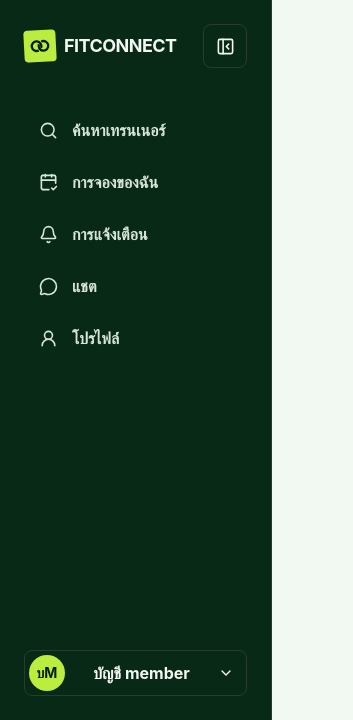
SiteHeader › keeps the authenticated account control and role workspace available
Click the button with aria-label "เปิดเมนูบัญชีของ บัญชี member" at (136, 673), box 24,650 -> 247,696
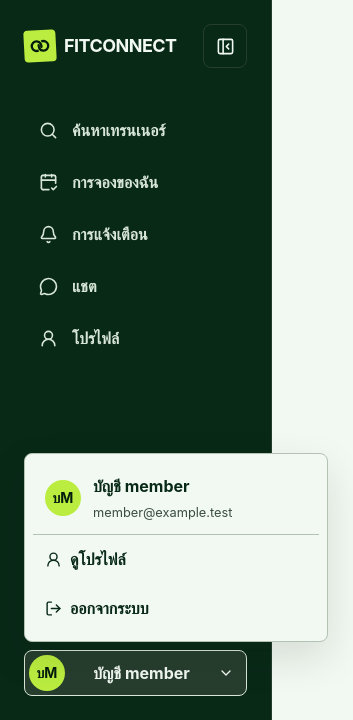
Now the text "member@example.test" is shown, box 93,503 -> 232,522
Now the button "ออกจากระบบ" is shown, box 33,584 -> 319,633
